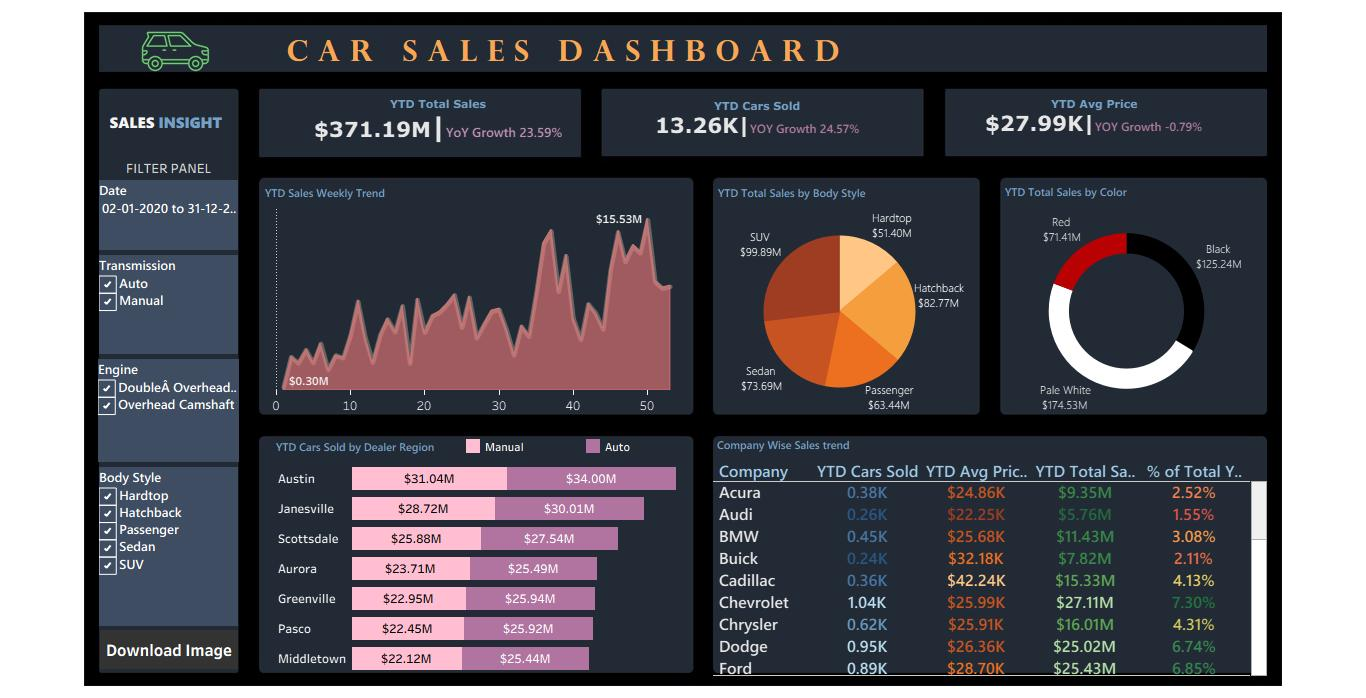

What the dashboard file says about the page in this screenshot:
{"tool":"tableau","page":{"name":"Dashboard 1","canvas":[1000,1000],"units":"permille","ordinal":0},"visuals":[{"type":"image","param":"C:/Users/Admin/Downloads/Car Sales Background.jpg","box":[7,14.2,986.1,971.5]},{"type":"image","param":"C:/Users/Admin/Downloads/Car Icon.png","box":[82.8,16,91.5,113.9]},{"type":"text","box":[160.3,33.8,503.5,74.7]},{"type":"worksheet","title":"YTD Cars Sold","mark":"Automatic","box":[437.3,121,235.2,103.2]},{"type":"worksheet","title":"YTD Total Sales","mark":"Automatic","box":[209.1,122.8,223,99.6]},{"type":"worksheet","title":"YTD Avg Price","mark":"Automatic","box":[689,122.8,224.7,90.8]},{"type":"text","box":[78.4,124.6,168.1,99.6]},{"type":"text","box":[80.1,210,87.1,58.7]},{"type":"worksheet","title":"YTD Total Sales by Color ","mark":"Pie","rows":["Calculation_1142788464778182666","Calculation_1142788464778219532"],"box":[732.6,254.5,183.8,338.1]},{"type":"worksheet","title":"YTD Sales Weekly Trend ","mark":"Area","rows":["Calculation_1142788464743280640","Calculation_1142788464743280640"],"cols":["Date"],"box":[190.8,256.2,315.3,336.3]},{"type":"worksheet","title":"YTD Total Sales by Body Style ","mark":"Pie","box":[522.6,256.2,183.8,336.3]},{"type":"filter","title":"YTD Sales Weekly Trend ","param":"[federated.16qxdg2133u48211433tu1fl4hsn].[none:Date:qk]","box":[72.3,258,101.9,99.6]},{"type":"filter","title":"YTD Sales Weekly Trend ","param":"[federated.16qxdg2133u48211433tu1fl4hsn].[none:Transmission:nk]","box":[72.3,364.8,101.9,142.3]},{"type":"filter","title":"YTD Sales Weekly Trend ","param":"[federated.16qxdg2133u48211433tu1fl4hsn].[none:Engine:nk]","box":[71.4,514.2,103.7,147.7]},{"type":"worksheet","title":"Company Wise Sales trend","mark":"Automatic","rows":["Company"],"box":[521.8,617.4,405.9,350.5]},{"type":"worksheet","title":"YTD Cars Sold by Dealer Region","mark":"Automatic","rows":["Dealer_Region"],"cols":["Calculation_1142788464743280640"],"box":[199.5,621,307.5,343.4]},{"type":"legend","title":"YTD Cars Sold by Dealer Region","param":"[federated.16qxdg2133u48211433tu1fl4hsn].[none:Transmission:nk]","box":[338.9,624.6,173.3,44.5]},{"type":"filter","title":"YTD Sales Weekly Trend ","param":"[federated.16qxdg2133u48211433tu1fl4hsn].[none:Body Style:nk]","box":[72.3,669,101.9,227.8]},{"type":"dashboard-object","box":[73.2,902.1,101,56.9]}]}

Visuals, with their boxes on the dashboard's canvas, which has no fixed pixel size, in thousandths of its width and height (x1, y1, x2, y2). These are canvas units, not pixel positions in the 1366x698 screenshot, which may show the page scaled, cropped or inside an application window:
image: detection(7, 14, 993, 986)
image: detection(83, 16, 174, 130)
text: detection(160, 34, 664, 108)
"YTD Cars Sold" worksheet: detection(437, 121, 672, 224)
"YTD Total Sales" worksheet: detection(209, 123, 432, 222)
"YTD Avg Price" worksheet: detection(689, 123, 914, 214)
text: detection(78, 125, 246, 224)
text: detection(80, 210, 167, 269)
"YTD Total Sales by Color " worksheet (Pie marks): detection(733, 254, 916, 593)
"YTD Sales Weekly Trend " worksheet (Area marks): detection(191, 256, 506, 592)
"YTD Total Sales by Body Style " worksheet (Pie marks): detection(523, 256, 706, 592)
"YTD Sales Weekly Trend " filter: detection(72, 258, 174, 358)
"YTD Sales Weekly Trend " filter: detection(72, 365, 174, 507)
"YTD Sales Weekly Trend " filter: detection(71, 514, 175, 662)
"Company Wise Sales trend" worksheet: detection(522, 617, 928, 968)
"YTD Cars Sold by Dealer Region" worksheet: detection(200, 621, 507, 964)
"YTD Cars Sold by Dealer Region" legend: detection(339, 625, 512, 669)
"YTD Sales Weekly Trend " filter: detection(72, 669, 174, 897)
dashboard-object: detection(73, 902, 174, 959)
